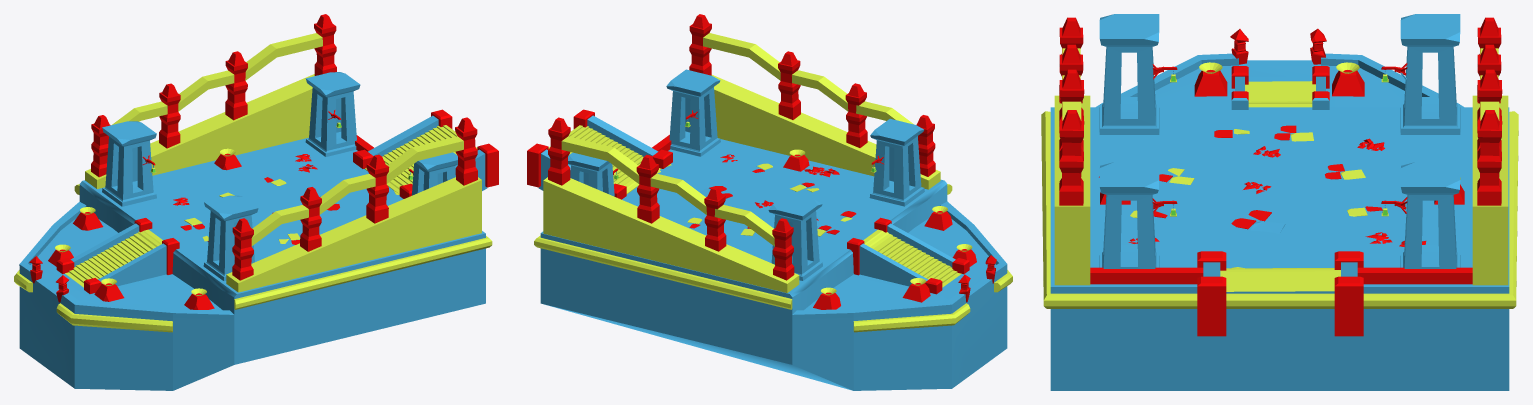
File: level01_floor07.FBX
3 renders of one model, left to right at view 1: azimuth 30°, elevation 25°; view 2: azimuth 150°, elevation 25°; view 3: azimuth 270°, elevation 25°, orthographic. The views are drawn at different scales.
Visible parts, largest first — view 1: floor07_props, floor07_floor02, floor07_floor01; view 2: floor07_props, floor07_floor02, floor07_floor01; view 3: floor07_floor02, floor07_props, floor07_floor01.
Part boxes in pixels (bbox=[...]): floor07_props: bbox=[85, 14, 498, 292]; floor07_floor02: bbox=[74, 110, 492, 364]; floor07_floor01: bbox=[14, 184, 234, 390]; floor07_props: bbox=[527, 14, 940, 292]; floor07_floor02: bbox=[534, 110, 952, 390]; floor07_floor01: bbox=[792, 184, 1012, 390]; floor07_floor02: bbox=[1041, 63, 1518, 390]; floor07_props: bbox=[1054, 14, 1508, 336]; floor07_floor01: bbox=[1096, 28, 1463, 107].
Size of the model in its own units: 957 by 460 by 622.
